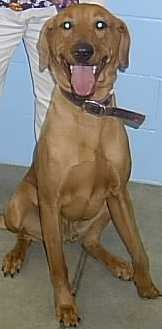Dog: (0, 3, 149, 297)
